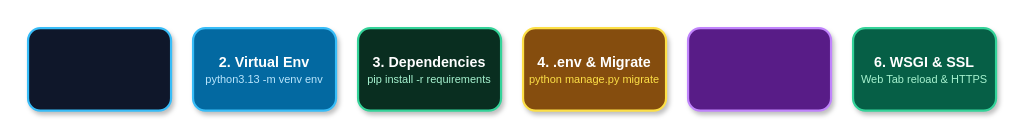
This 1022x138 diagram has some shape labels left out. The centre of each missing label's shape, as x and y in pixels:
"1. Clone Repository git clone repo into ~/system" belongs at point (100, 70).
"5. Collectstatic collectstatic --noinput" belongs at point (760, 70).
